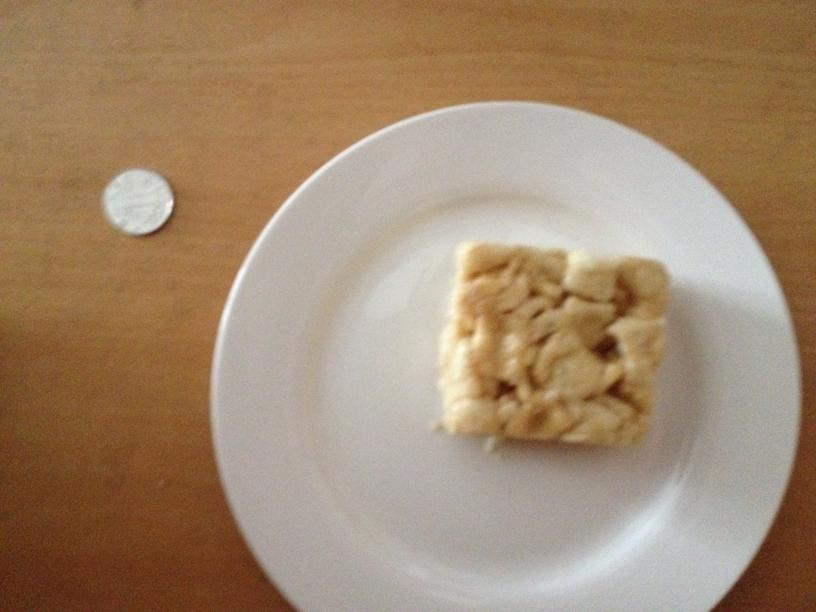coin: (101, 168, 173, 234)
sachima: (432, 238, 667, 446)
